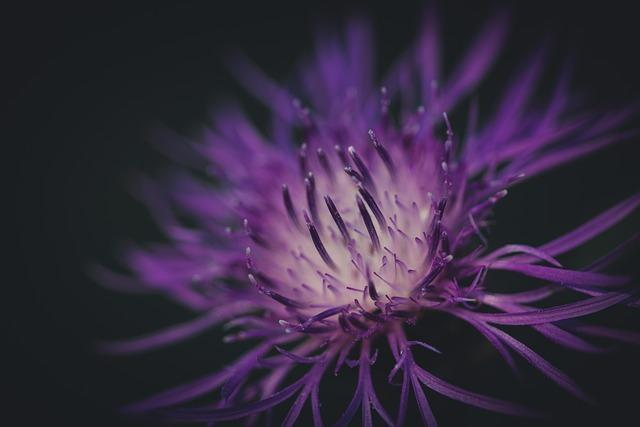Non_Gorille: (184, 55, 573, 397)
